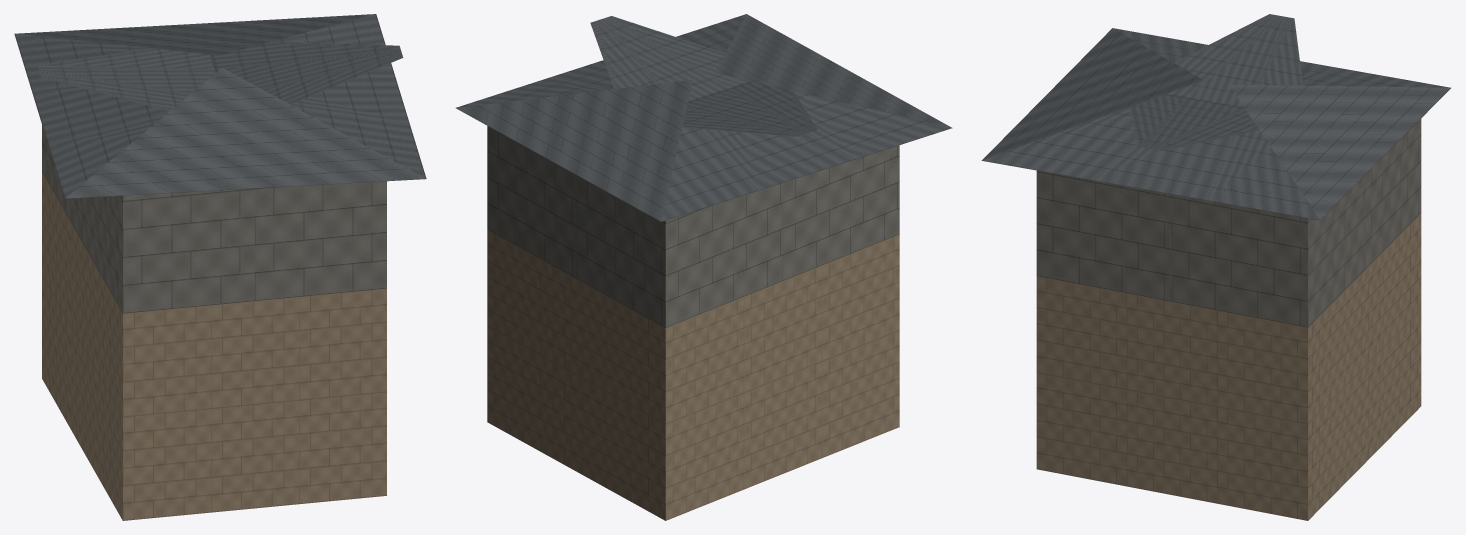
File: bld_c-14_2_711.gltf
The picture shows the model from 3 angles, left to right: view 1: azimuth 30°, elevation 25°; view 2: azimuth 150°, elevation 25°; view 3: azimuth 270°, elevation 25°; orthographic projection. The views are drawn at different scales.
Parts seen in each view (by area): view 1: bld_c-14_2_711; view 2: bld_c-14_2_711; view 3: bld_c-14_2_711.
Boxes of the visible parts, x1,y1,x2,y2 form: bld_c-14_2_711: (14,14,426,520); bld_c-14_2_711: (456,14,952,520); bld_c-14_2_711: (981,14,1450,520).
Bounding box in the file's own units: 9.89 × 8.5 × 10.2.
Materials: 3 (3 with a texture image).
